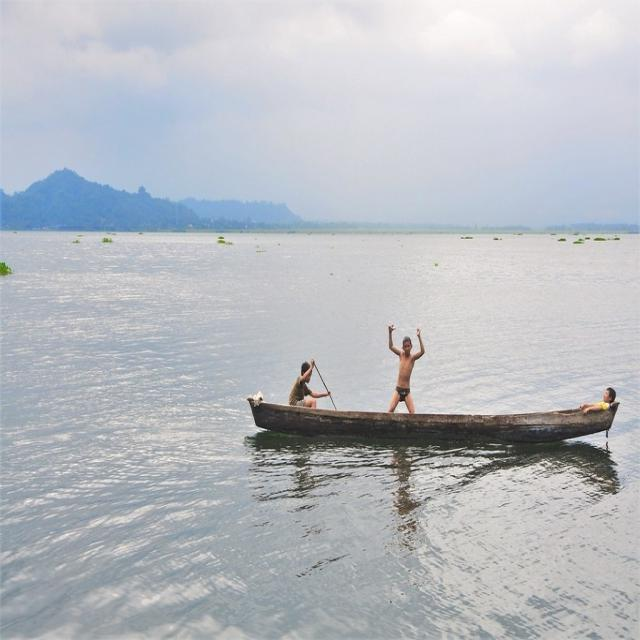Hyacinth: (566, 222, 593, 261), (586, 234, 622, 246), (0, 256, 12, 286), (94, 235, 120, 248), (214, 233, 235, 247), (424, 259, 445, 272), (555, 232, 571, 246), (460, 234, 472, 242), (512, 232, 524, 237), (493, 236, 501, 241)
boat: (240, 399, 626, 438)
